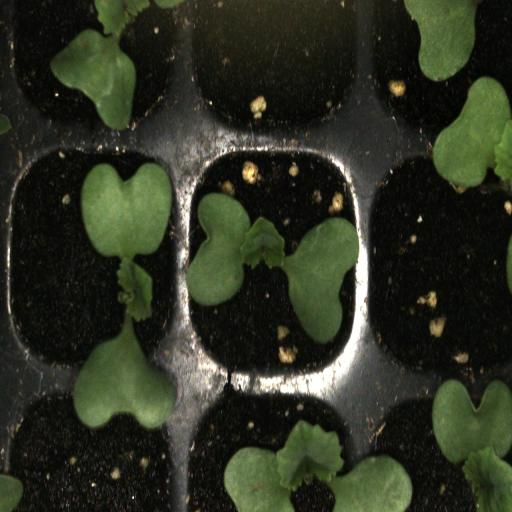noseedling: (188, 0, 361, 130)
seedling: (8, 131, 184, 387), (180, 134, 363, 380), (6, 0, 184, 131), (190, 381, 362, 512)
